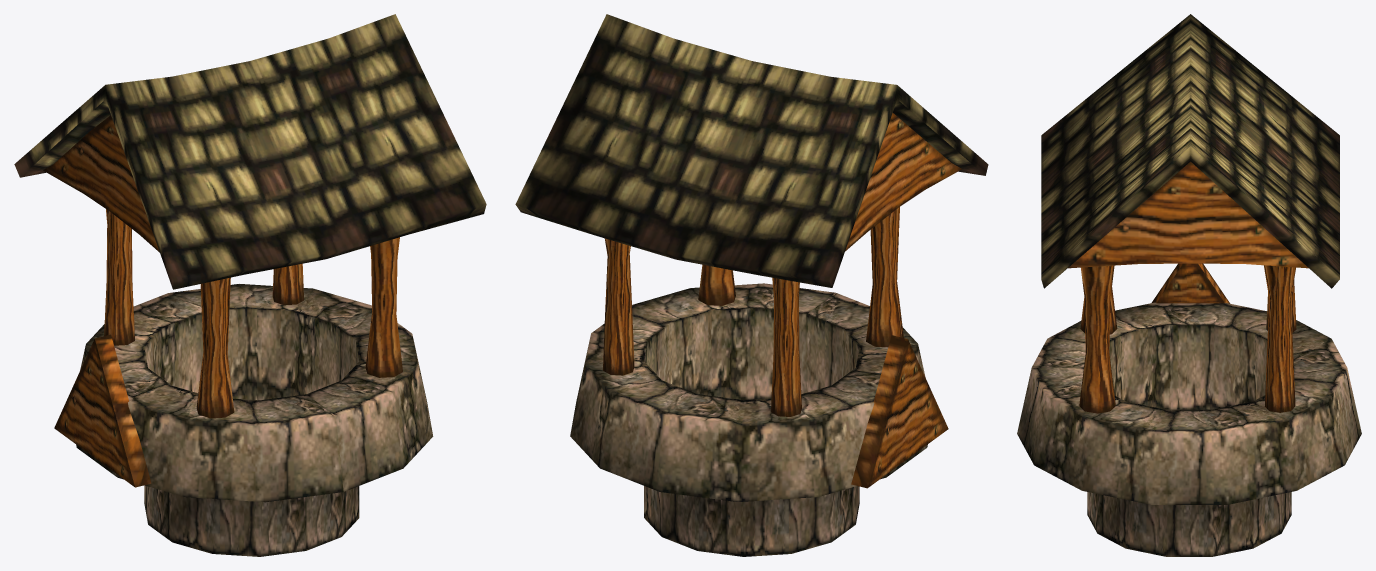
File: PAULSWELLTHATENDSWELL.fbx
The picture shows the model from 3 angles, left to right: view 1: azimuth 30°, elevation 25°; view 2: azimuth 150°, elevation 25°; view 3: azimuth 270°, elevation 25°; orthographic projection. The views are drawn at different scales.
Parts seen in each view (by area): view 1: PAULSWELLTHATENDSWELL; view 2: PAULSWELLTHATENDSWELL; view 3: PAULSWELLTHATENDSWELL.
Part boxes in pixels (x1,y1,x2,y2): PAULSWELLTHATENDSWELL: (14, 14, 486, 556); PAULSWELLTHATENDSWELL: (515, 14, 988, 556); PAULSWELLTHATENDSWELL: (1017, 14, 1361, 556).
Size of the model in its own units: 23172 by 32618 by 23494.
4 materials, 4 textured.
